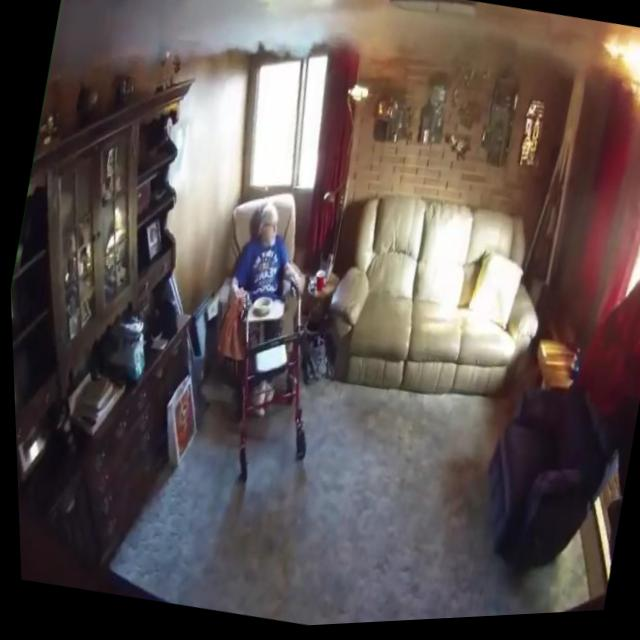fire: (589, 32, 640, 126)
